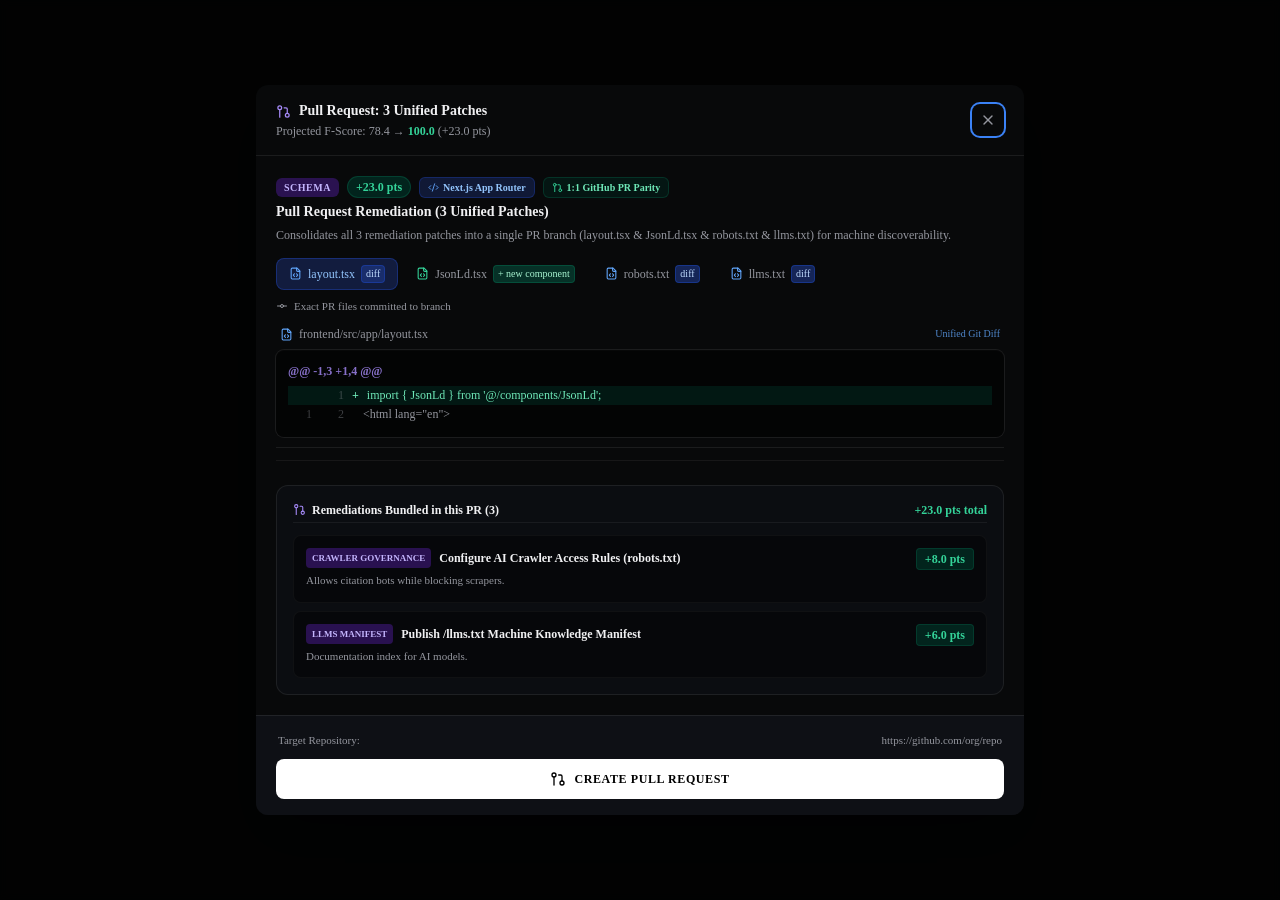
PatchModal - Framework-Native tabs and Dual Perspective › aggregates all files across all PR patches (layout.tsx, JsonLd.tsx, robots.txt, llms.txt) into unified tabs
expect the text "layout.tsx" is shown: met, box x1=308 y1=266 x2=355 y2=282
expect the text "JsonLd.tsx" is shown: met, box x1=435 y1=266 x2=487 y2=282
Clicking robots.txt tab switches the diff viewer
Click the button with test id "tab-public/robots.txt": (652, 274) x1=593 y1=259 x2=712 y2=289
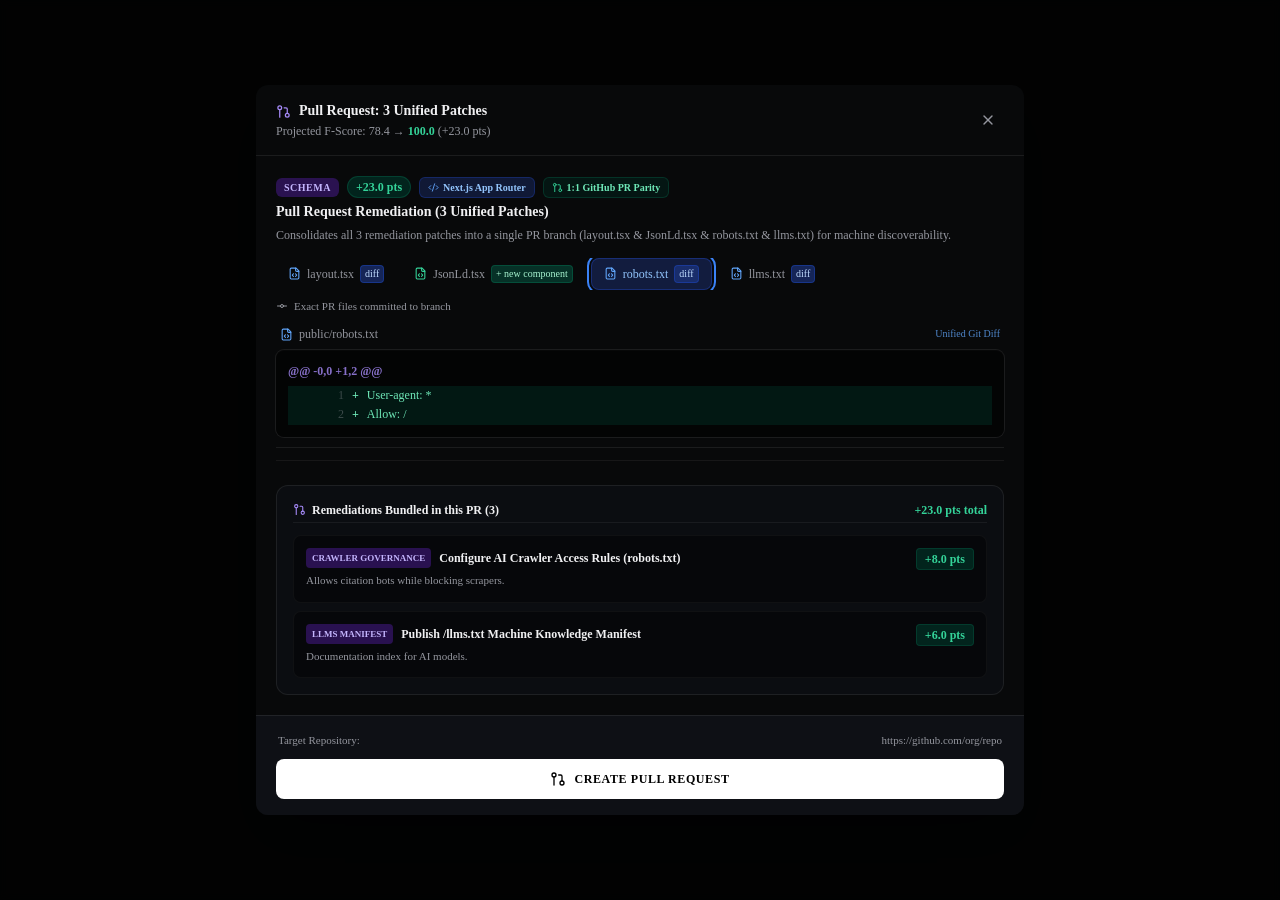
expect the text "public/robots.txt" is shown: met, box x1=280 y1=326 x2=378 y2=342
expect the text "User-agent: *" is shown: met, box x1=367 y1=386 x2=432 y2=405
Clicking llms.txt tab switches the diff viewer
Click the button with test id "tab-public/llms.txt": (772, 274) x1=718 y1=259 x2=827 y2=289
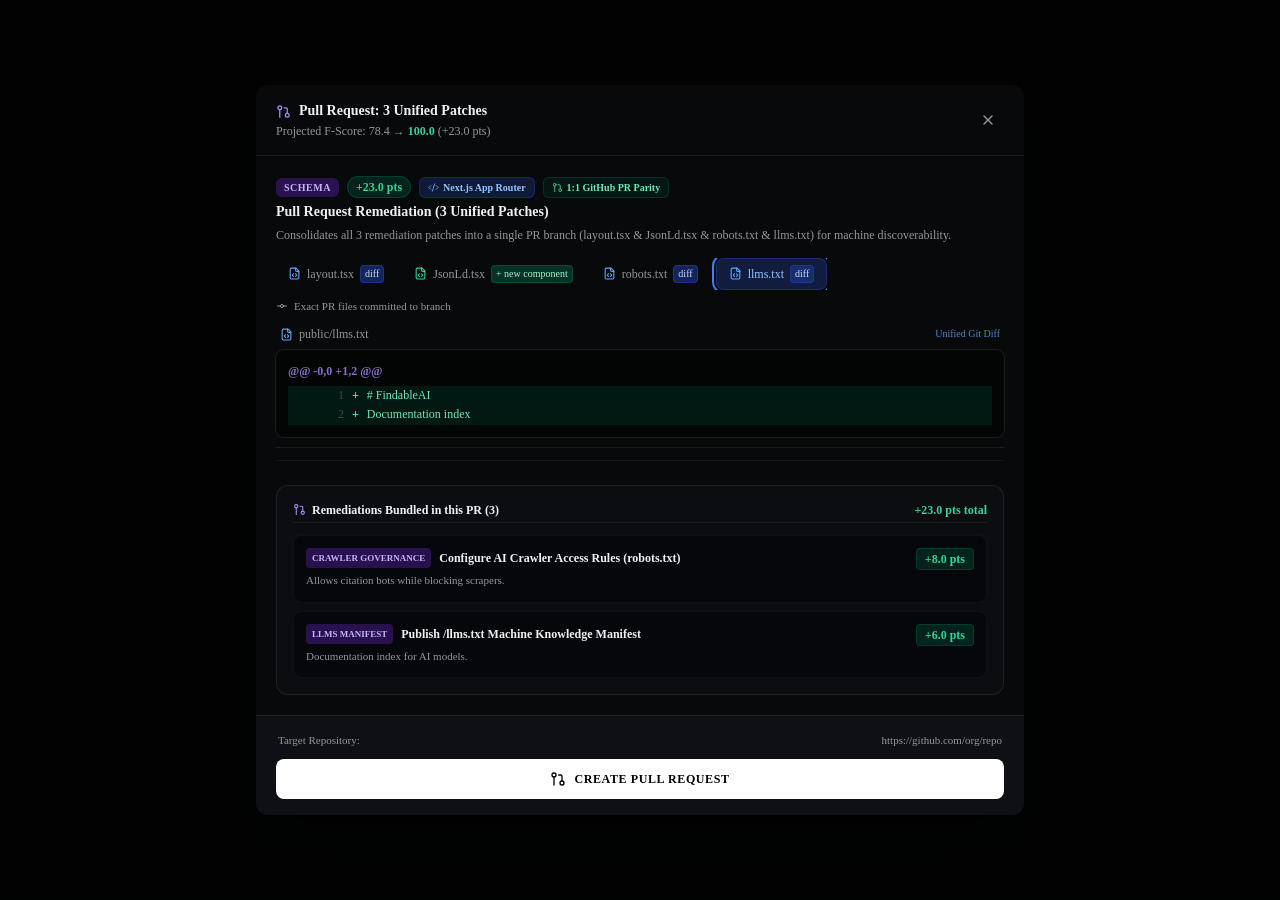
expect the text "public/llms.txt" is shown: met, box x1=280 y1=326 x2=369 y2=342
expect the text "# FindableAI" is shown: met, box x1=367 y1=386 x2=430 y2=405
